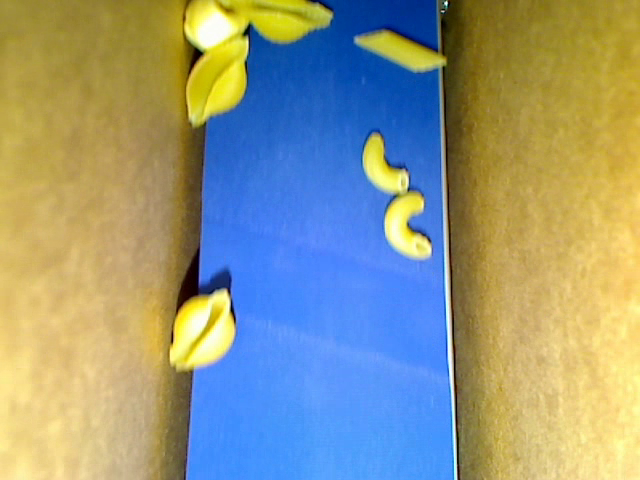elbow: (383, 190, 432, 259), (359, 131, 410, 194)
penne: (354, 29, 446, 72)
shell: (185, 35, 249, 128), (168, 288, 237, 371), (231, 1, 334, 47)
tortellini: (183, 1, 249, 54)
